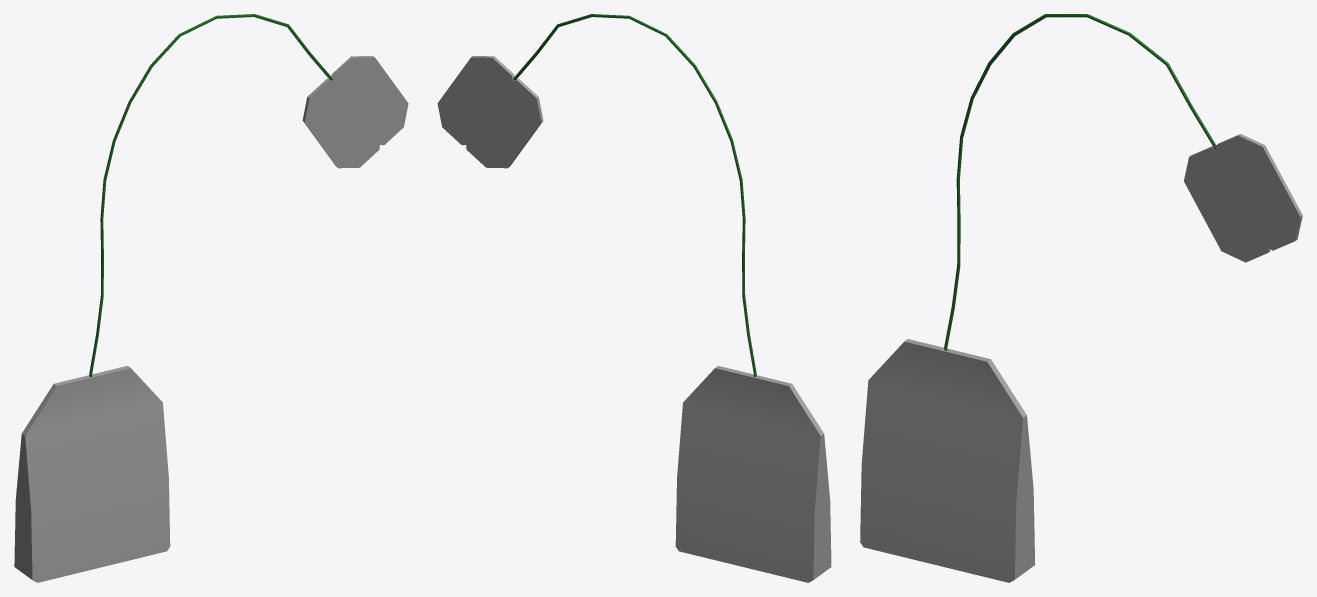
The model's file is TeaBag.fbx.
3 renders of one model, left to right at view 1: azimuth 30°, elevation 25°; view 2: azimuth 150°, elevation 25°; view 3: azimuth 330°, elevation 25°, orthographic. The views are drawn at different scales.
Parts seen in each view (by area): view 1: pCube343; view 2: pCube343; view 3: pCube343.
Boxes of the visible parts, x1,y1,x2,y2 form: pCube343: [14, 14, 408, 582]; pCube343: [437, 14, 831, 582]; pCube343: [860, 14, 1302, 582].
Bounding box in the file's own units: 18.99 × 24.27 × 1.7.
